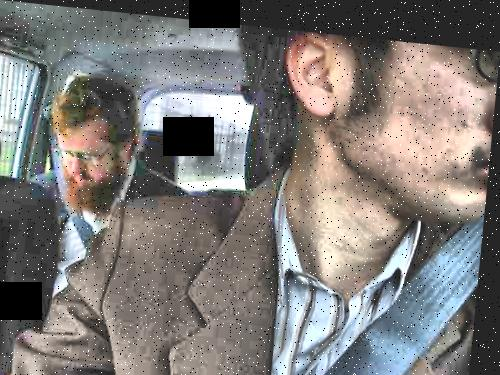seatbelt: (326, 222, 479, 375), (34, 125, 107, 258)
